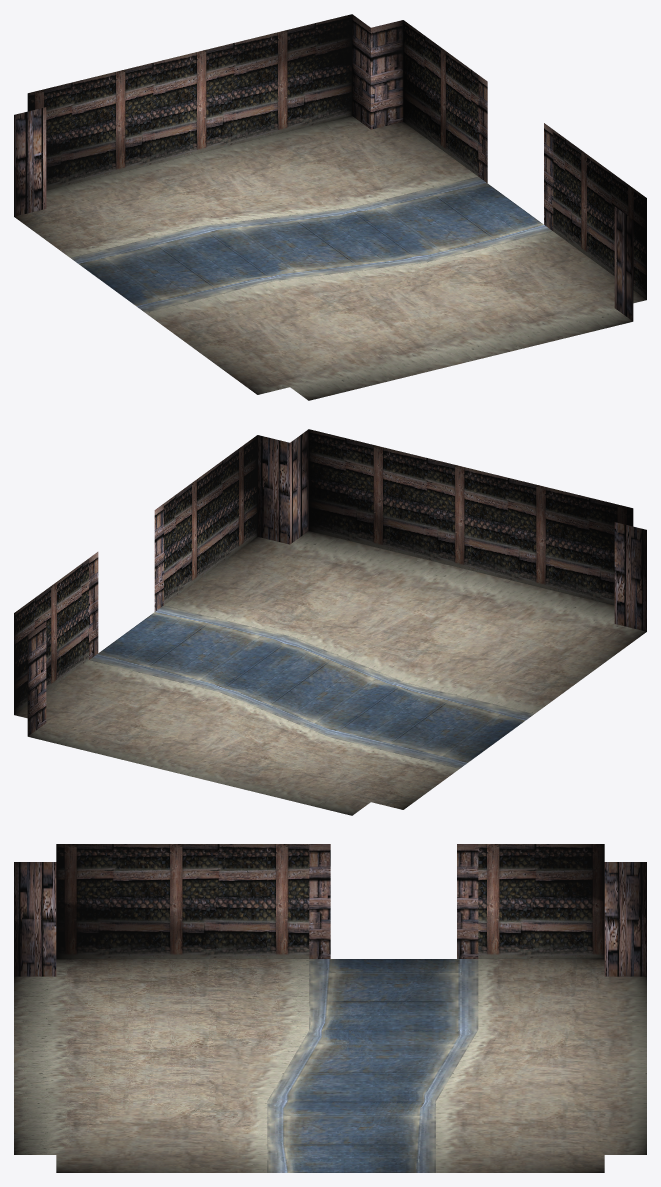
The picture shows the model from 3 angles, top to bottom: view 1: azimuth 30°, elevation 25°; view 2: azimuth 150°, elevation 25°; view 3: azimuth 270°, elevation 25°; orthographic projection. The views are drawn at different scales.
Parts seen in each view (by area): view 1: M09_Z05_03; view 2: M09_Z05_03; view 3: M09_Z05_03.
Boxes of the visible parts, box(x1,y1,x2,y2) form: M09_Z05_03: box(14, 14, 646, 400); M09_Z05_03: box(14, 429, 646, 815); M09_Z05_03: box(14, 844, 646, 1172).
Size of the model in its own units: 12 by 3 by 15.
Materials: 5 (5 with a texture image).
